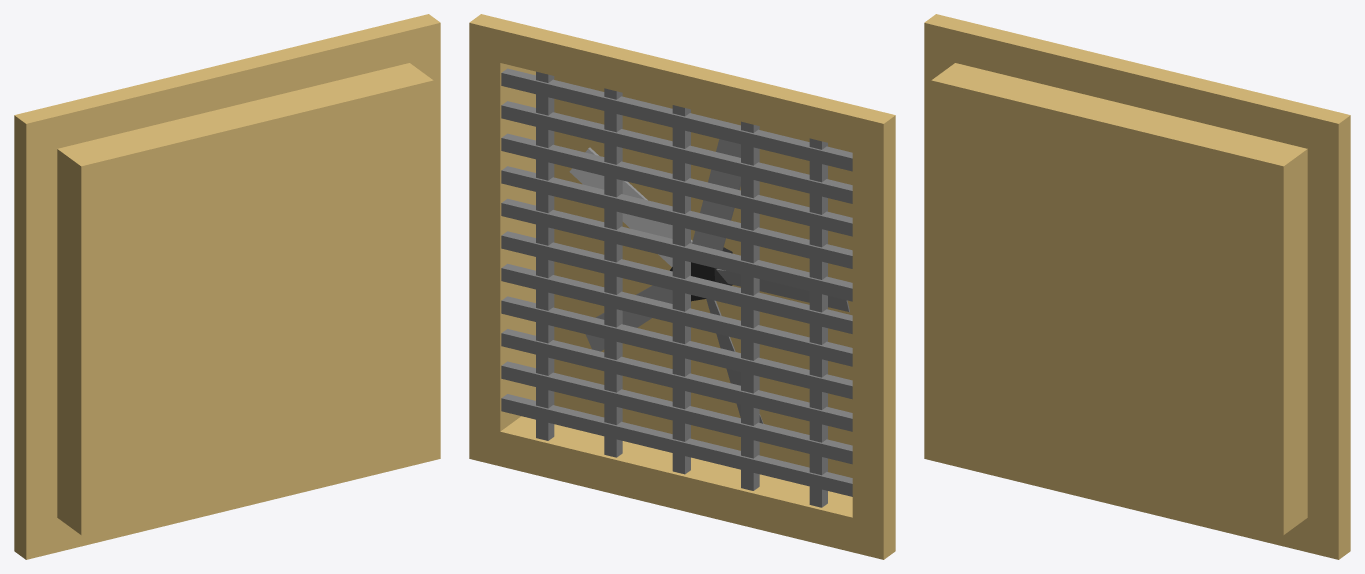
File: Industrial_New_Wall_Panel_GrillFan.fbx
3 views of the same model, side by side, from view 1: azimuth 30°, elevation 25°; view 2: azimuth 150°, elevation 25°; view 3: azimuth 330°, elevation 25° (orthographic).
Visible parts, largest first — view 1: Cube.005; view 2: Cube.005; view 3: Cube.005.
Boxes of the visible parts, box(x1,y1,x2,y2) form: Cube.005: box(14, 14, 440, 559); Cube.005: box(469, 14, 895, 559); Cube.005: box(924, 14, 1350, 559).
Size of the model in its own units: 200 by 201 by 30.
